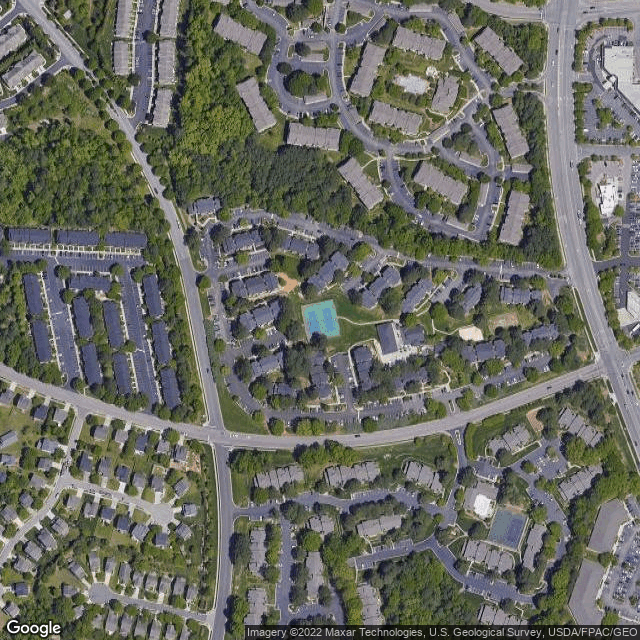Court: (305, 309, 323, 336), (319, 308, 334, 334)
